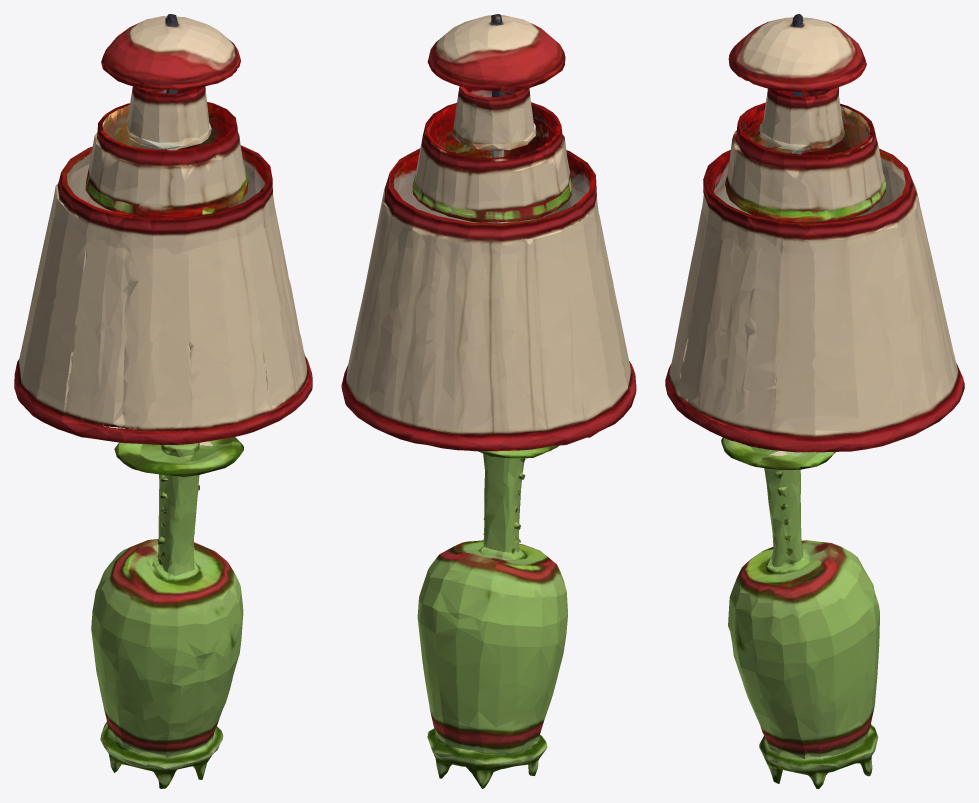
Rendered from lampara.obj.
3 renders of one model, left to right at view 1: azimuth 30°, elevation 25°; view 2: azimuth 150°, elevation 25°; view 3: azimuth 270°, elevation 25°, orthographic.
Parts seen in each view (by area): view 1: lampara:tripo_node_4c967a06_6a1c_41ab_87d9_d46230e4a350; view 2: lampara:tripo_node_4c967a06_6a1c_41ab_87d9_d46230e4a350; view 3: lampara:tripo_node_4c967a06_6a1c_41ab_87d9_d46230e4a350.
Boxes of the visible parts, bbox=[...] form: lampara:tripo_node_4c967a06_6a1c_41ab_87d9_d46230e4a350: bbox=[14, 14, 312, 788]; lampara:tripo_node_4c967a06_6a1c_41ab_87d9_d46230e4a350: bbox=[341, 14, 636, 788]; lampara:tripo_node_4c967a06_6a1c_41ab_87d9_d46230e4a350: bbox=[665, 14, 964, 788].
Bounding box in the file's own units: 0.3564 × 1 × 0.3574.
Materials: 1 (1 with a texture image).
